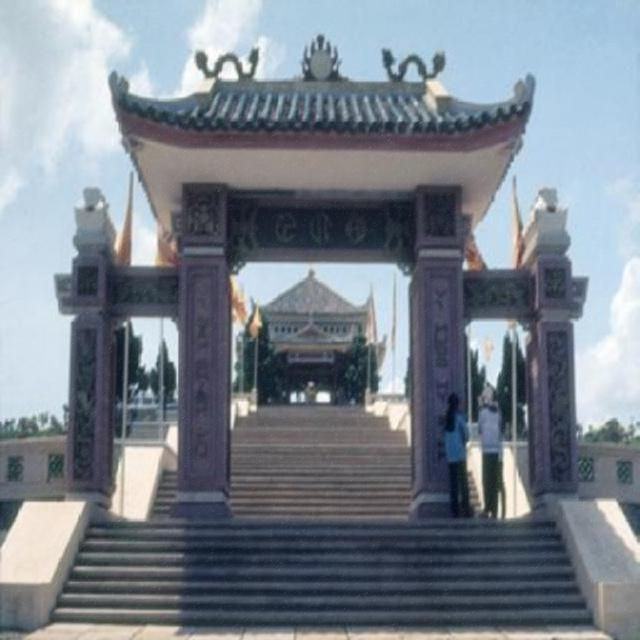stair: (48, 400, 597, 626)
